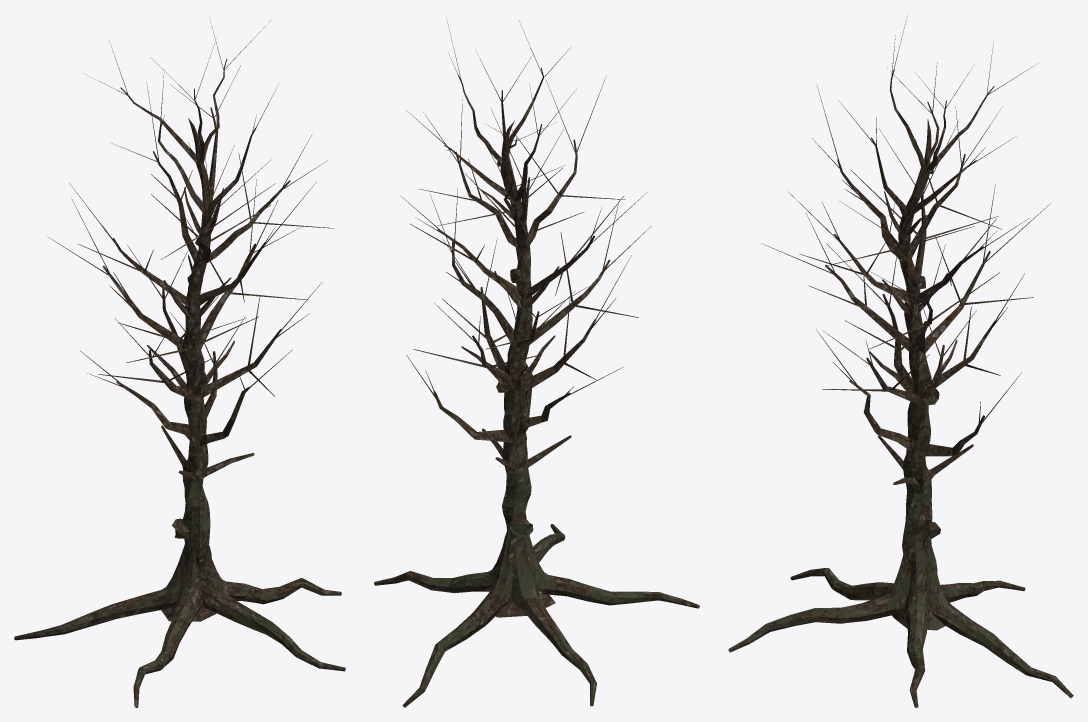
The model's file is Tree_03.fbx.
The picture shows the model from 3 angles, left to right: view 1: azimuth 30°, elevation 25°; view 2: azimuth 150°, elevation 25°; view 3: azimuth 270°, elevation 25°; orthographic projection. The views are drawn at different scales.
Parts seen in each view (by area): view 1: Tree_03; view 2: Tree_03; view 3: Tree_03.
Boxes of the visible parts, x1,y1,x2,y2 form: Tree_03: (14, 16, 345, 707); Tree_03: (374, 14, 699, 707); Tree_03: (728, 16, 1073, 707).
Size of the model in its own units: 371 by 827 by 399.
Materials: 1 (1 with a texture image).
